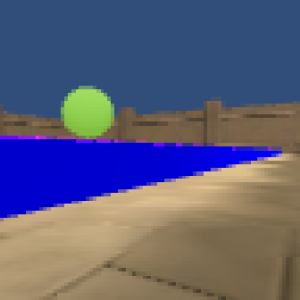goodGoal: (60, 86, 117, 139)
platform: (1, 141, 279, 213)
